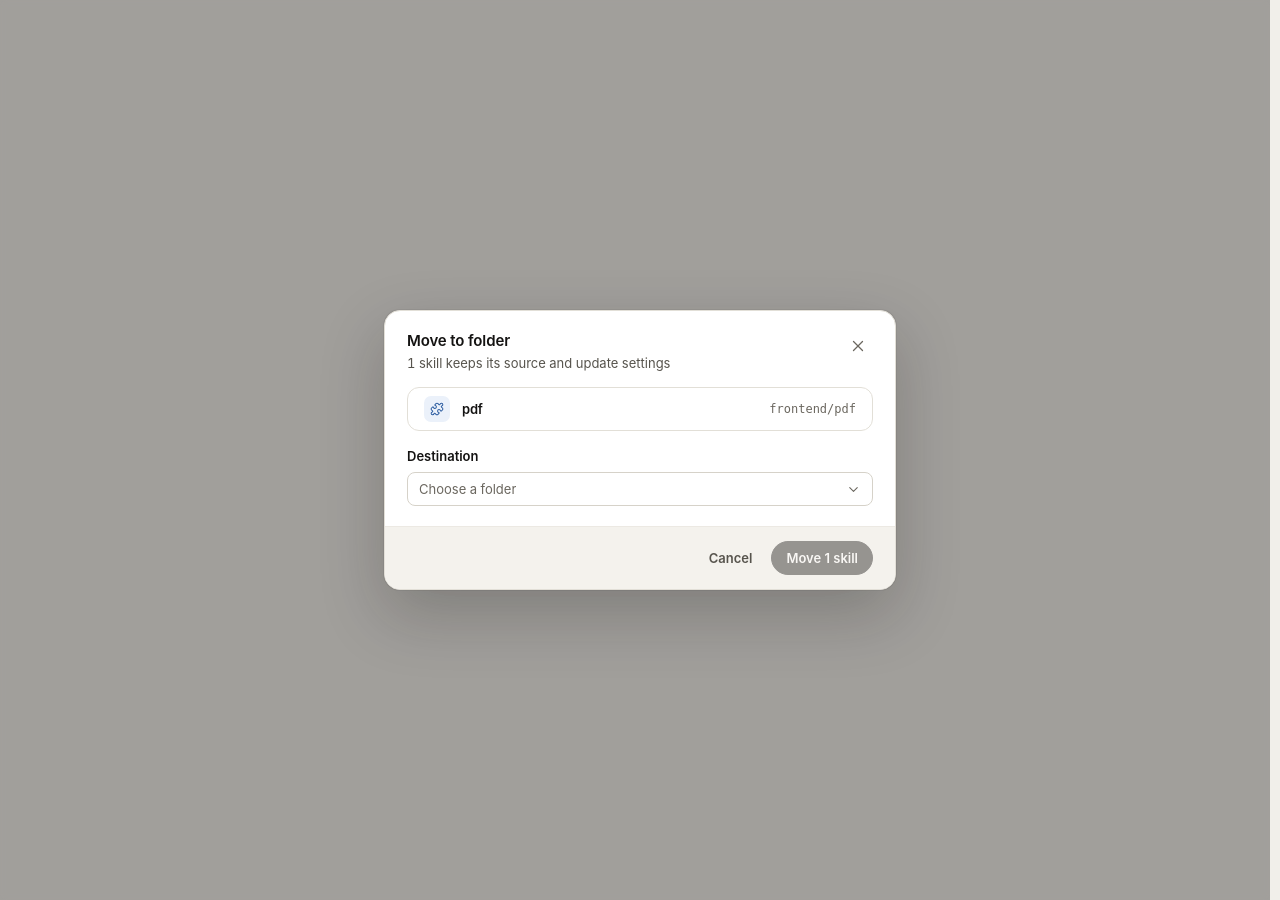
MoveDialog › has no "Move anyway" when nothing collided
Click the dropdown named "Destination".
click(468, 489)  # box 407,472 -> 873,506
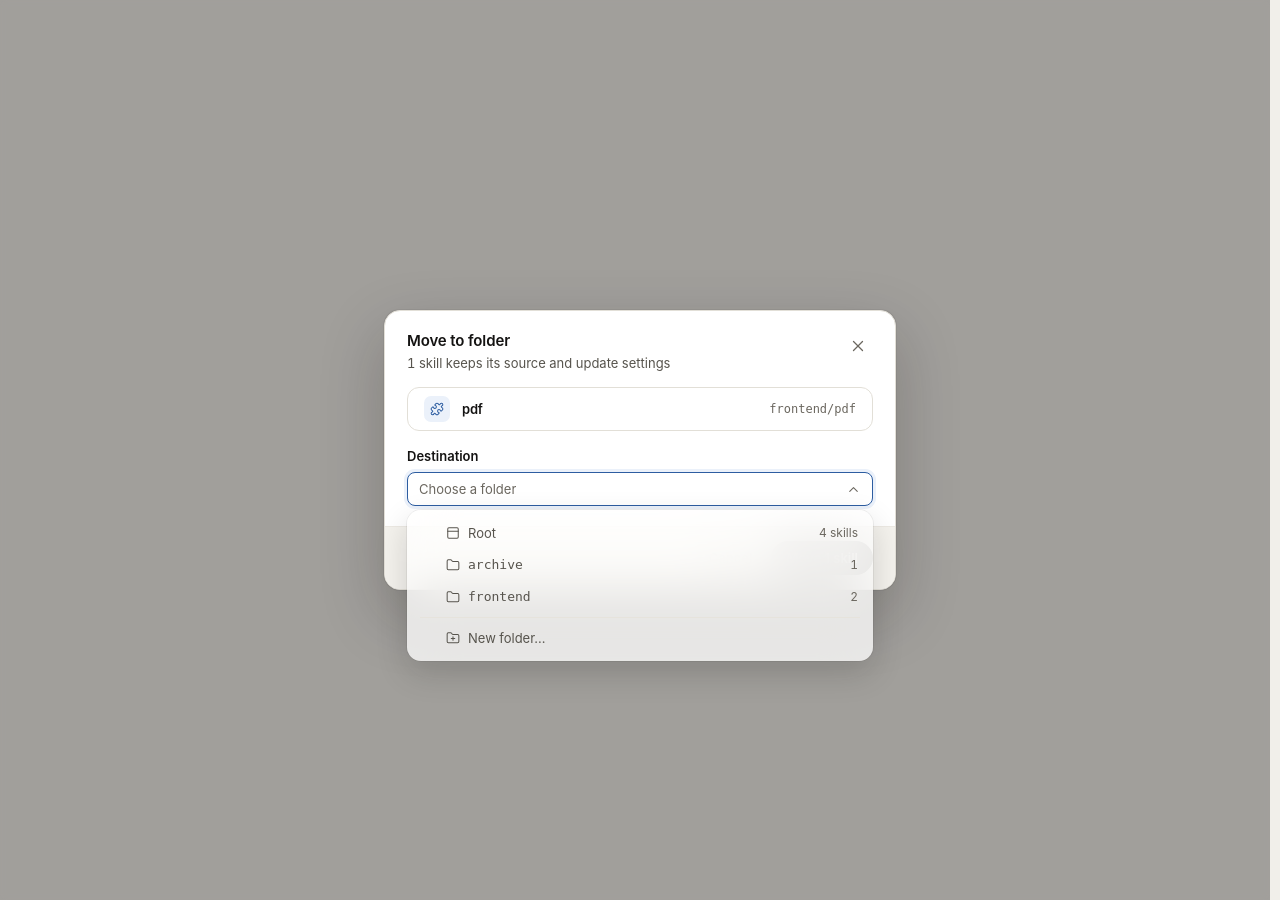
Click the option "archive 1".
click(495, 564)  # box 446,557 -> 858,572
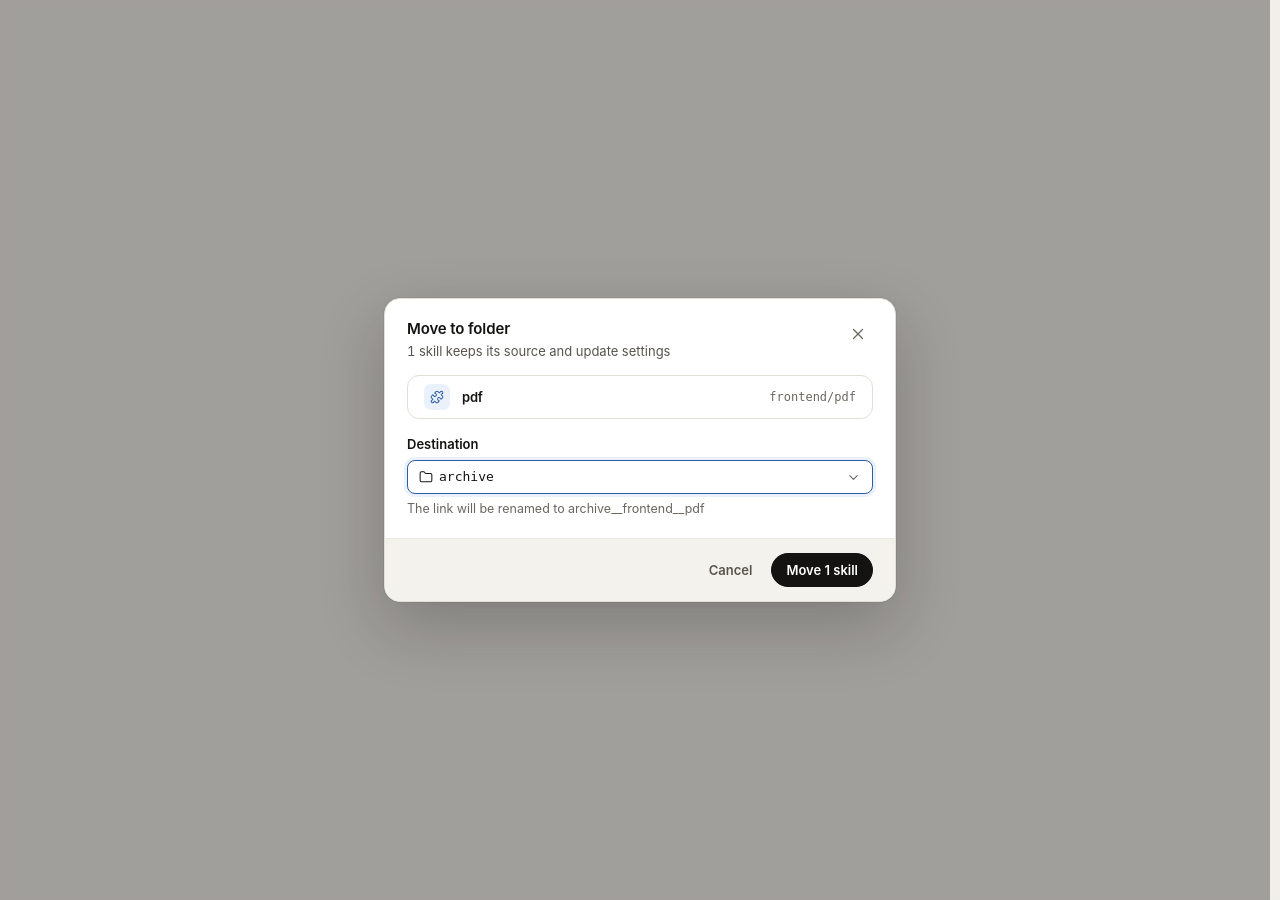
Click the button "Move 1 skill".
click(822, 570)  # box 772,553 -> 873,587
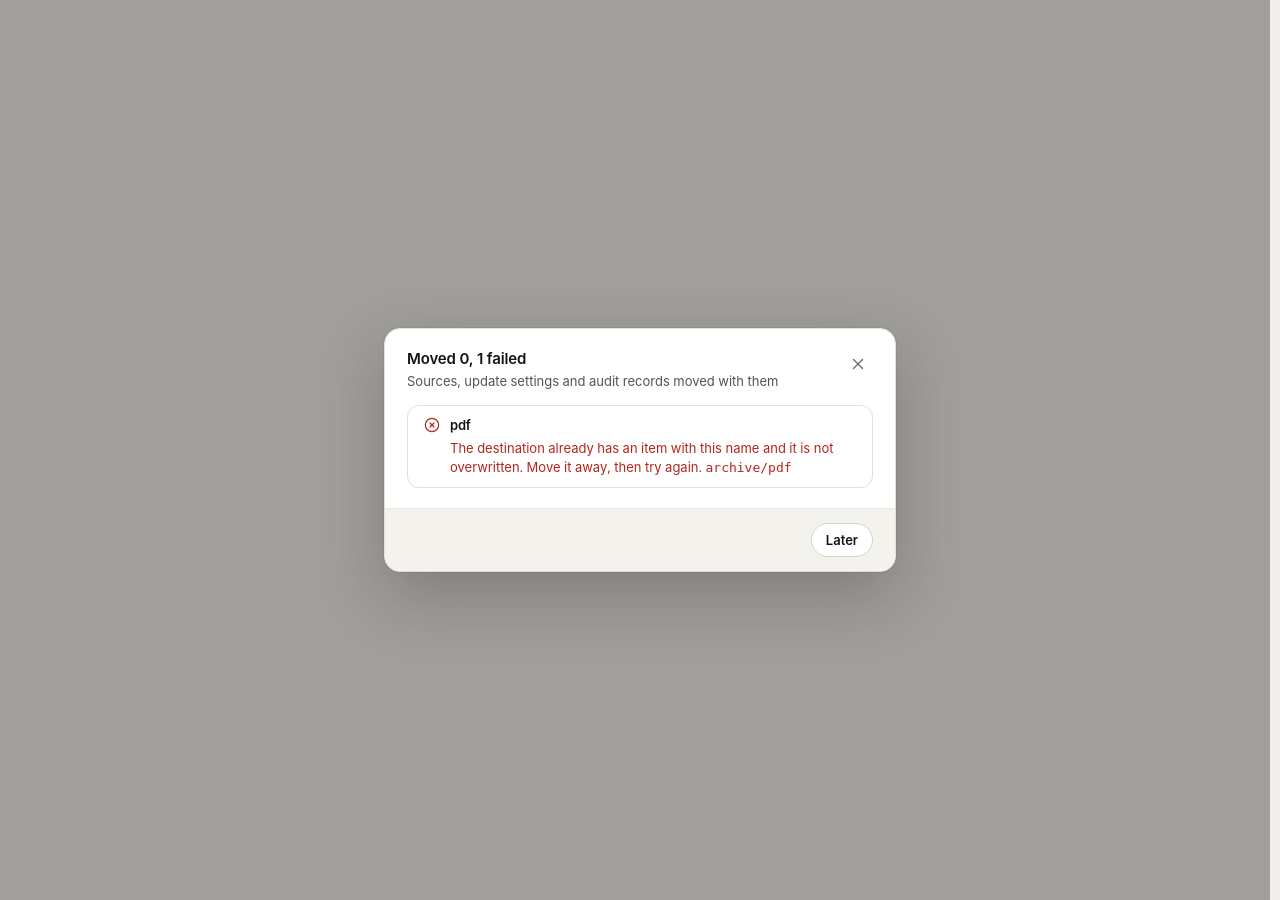
Now the heading "Moved 0, 1 failed" is shown, box 407,349 -> 526,368
Now the button "Later" is shown, box 811,523 -> 873,557
